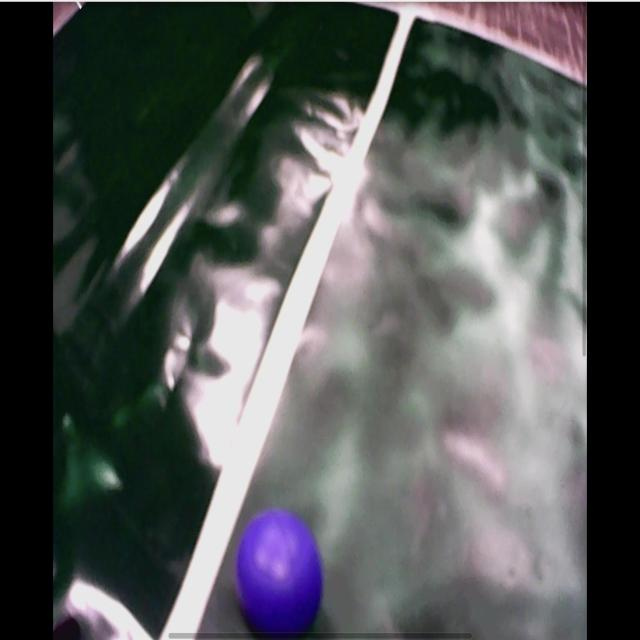ball: (239, 512, 324, 640)
